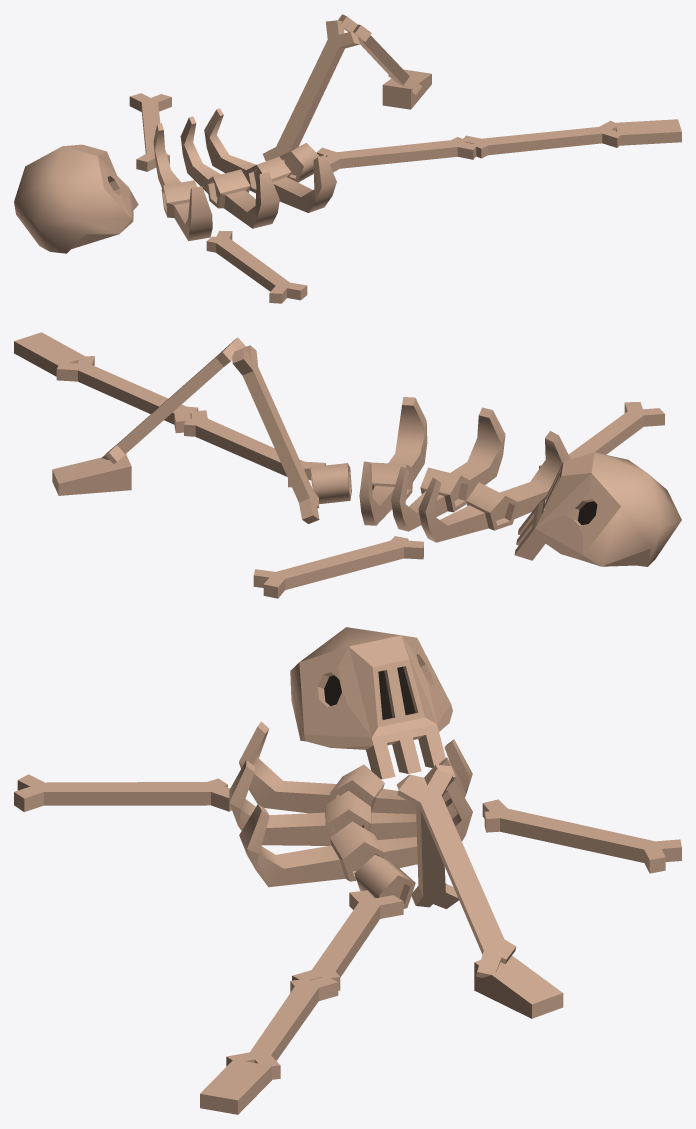
File: skeleton.FBX
The picture shows the model from 3 angles, top to bottom: view 1: azimuth 30°, elevation 25°; view 2: azimuth 150°, elevation 25°; view 3: azimuth 270°, elevation 25°; orthographic projection. The views are drawn at different scales.
Visible parts, largest first — view 1: skeleton; view 2: skeleton; view 3: skeleton.
Boxes of the visible parts, bbox=[...] form: skeleton: bbox=[14, 14, 681, 303]; skeleton: bbox=[14, 332, 681, 598]; skeleton: bbox=[14, 627, 681, 1114].
Size of the model in its own units: 21.73 by 4.61 by 14.92.
